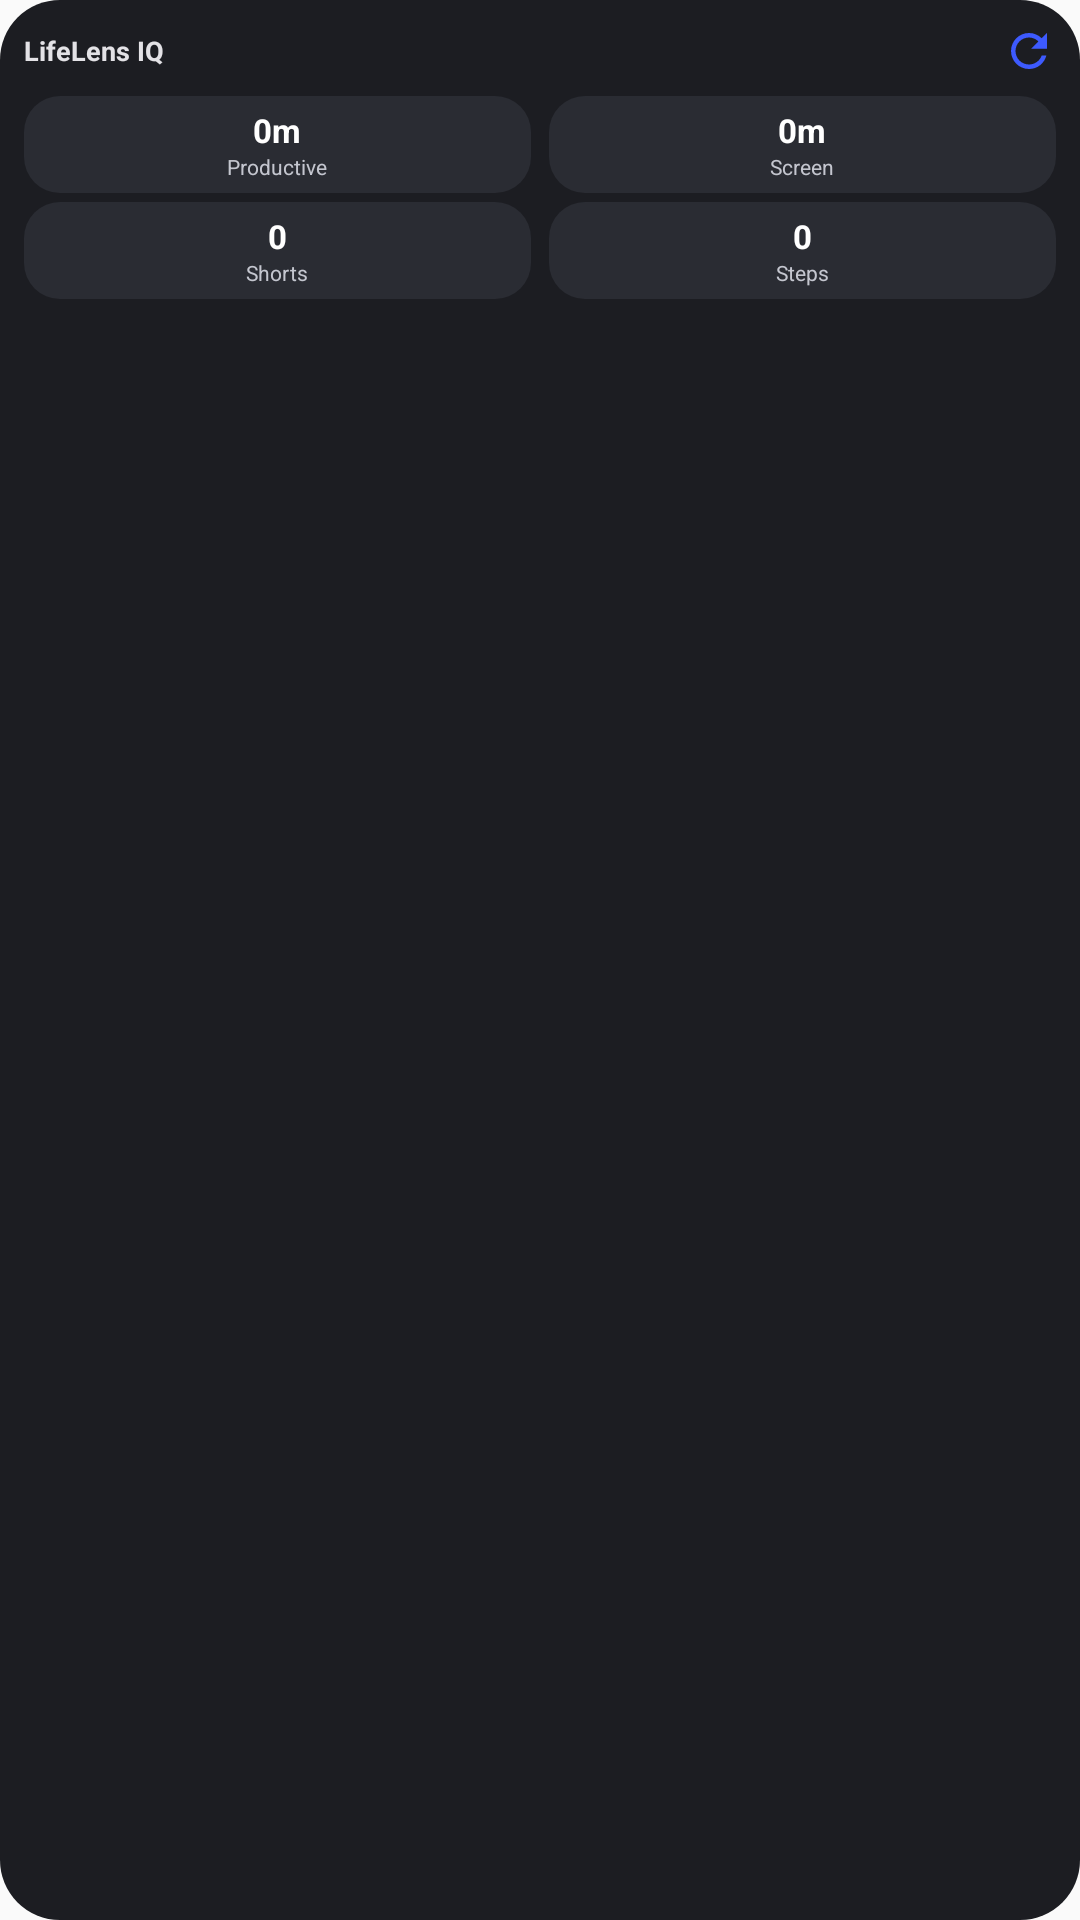

Locate icon controls on the screen. Image size 1080x1920, boxes as (x1, y1, x2, y2).
Sync now: (1011, 33, 1047, 69)
